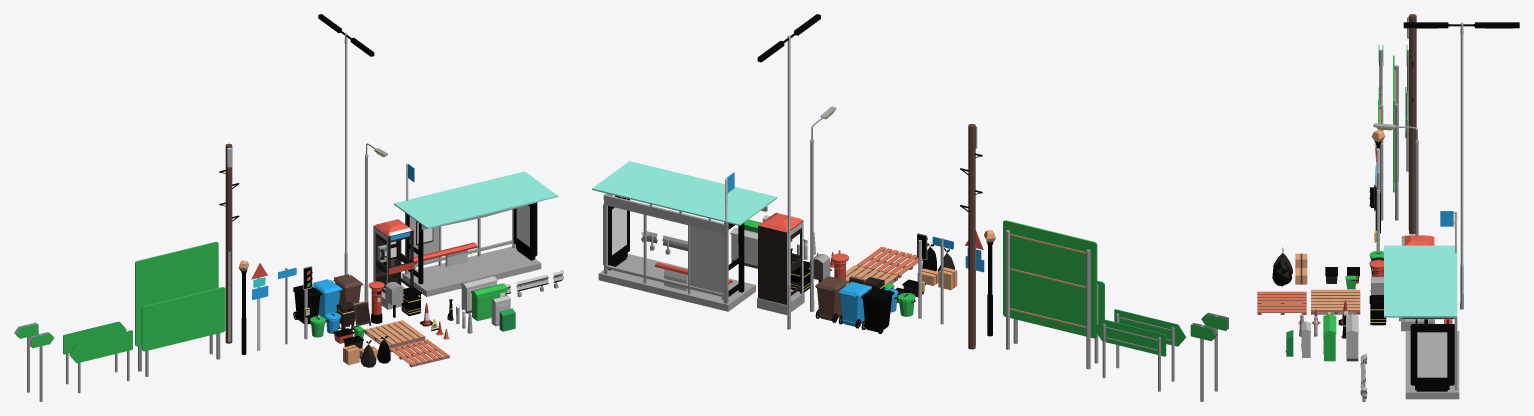
File: CityObjectsPack.fbx
3 views of the same model, side by side, from view 1: azimuth 30°, elevation 25°; view 2: azimuth 150°, elevation 25°; view 3: azimuth 270°, elevation 25° (orthographic). The views are drawn at different scales.
Parts seen in each view (by area): view 1: Bus Stop, Road Sign Large, Road Sign Med, Phone Box, Telephone Poll, Road Sign Small L, Light Motorway, Wooden Pallet A, Road Sign Small R, Wooden Pallet B, Cable box A, Bin Black (+9 smaller); view 2: Bus Stop, Road Sign Large, Phone Box, Telephone Poll, Road Sign Small R, Light Motorway, Road Sign Small L, Bin Black, Wooden Pallet B, Bin Brown, Bin Blue, Light Streetlight (+5 smaller); view 3: Bus Stop, Light Motorway, Telephone Poll, Wooden Pallet A, Wooden Pallet B, Road Sign Large, Cable box A, Cable box B, Phone Box, Light Streetlight, Bin Urban, Road Sign Med (+6 smaller).
Boxes of the visible parts, x1=… form: Bus Stop: x1=394, y1=163, x2=558, y2=296; Road Sign Large: x1=135, y1=241, x2=218, y2=371; Road Sign Med: x1=141, y1=287, x2=225, y2=376; Phone Box: x1=373, y1=219, x2=413, y2=309; Telephone Poll: x1=219, y1=143, x2=239, y2=343; Road Sign Small L: x1=69, y1=330, x2=132, y2=393; Light Motorway: x1=318, y1=14, x2=374, y2=274; Wooden Pallet A: x1=364, y1=320, x2=425, y2=348; Road Sign Small R: x1=63, y1=321, x2=126, y2=384; Wooden Pallet B: x1=389, y1=339, x2=449, y2=367; Cable box A: x1=471, y1=283, x2=507, y2=321; Bin Black: x1=293, y1=285, x2=322, y2=324; Bus Stop: x1=592, y1=161, x2=777, y2=311; Road Sign Large: x1=1003, y1=220, x2=1097, y2=369; Phone Box: x1=757, y1=212, x2=804, y2=314; Telephone Poll: x1=960, y1=124, x2=982, y2=349; Road Sign Small R: x1=1094, y1=319, x2=1166, y2=391; Light Motorway: x1=757, y1=14, x2=820, y2=329; Road Sign Small L: x1=1114, y1=309, x2=1186, y2=381; Bin Black: x1=861, y1=287, x2=894, y2=333; Wooden Pallet B: x1=856, y1=246, x2=923, y2=278; Bin Brown: x1=815, y1=276, x2=848, y2=322; Bin Blue: x1=838, y1=281, x2=871, y2=328; Light Streetlight: x1=810, y1=106, x2=836, y2=311; Bus Stop: x1=1384, y1=211, x2=1459, y2=399; Light Motorway: x1=1403, y1=22, x2=1519, y2=309; Telephone Poll: x1=1407, y1=14, x2=1416, y2=234; Wooden Pallet A: x1=1311, y1=289, x2=1360, y2=314; Wooden Pallet B: x1=1257, y1=291, x2=1306, y2=314; Road Sign Large: x1=1393, y1=55, x2=1398, y2=220; Cable box A: x1=1323, y1=314, x2=1336, y2=361; Cable box B: x1=1346, y1=314, x2=1358, y2=361; Phone Box: x1=1401, y1=235, x2=1434, y2=331; Light Streetlight: x1=1373, y1=123, x2=1418, y2=235; Bin Urban: x1=1369, y1=295, x2=1386, y2=325; Road Sign Med: x1=1378, y1=100, x2=1383, y2=220.
Bounding box in the file's own units: 20.05 × 9.46 × 7.76.
1 material, 1 textured.
